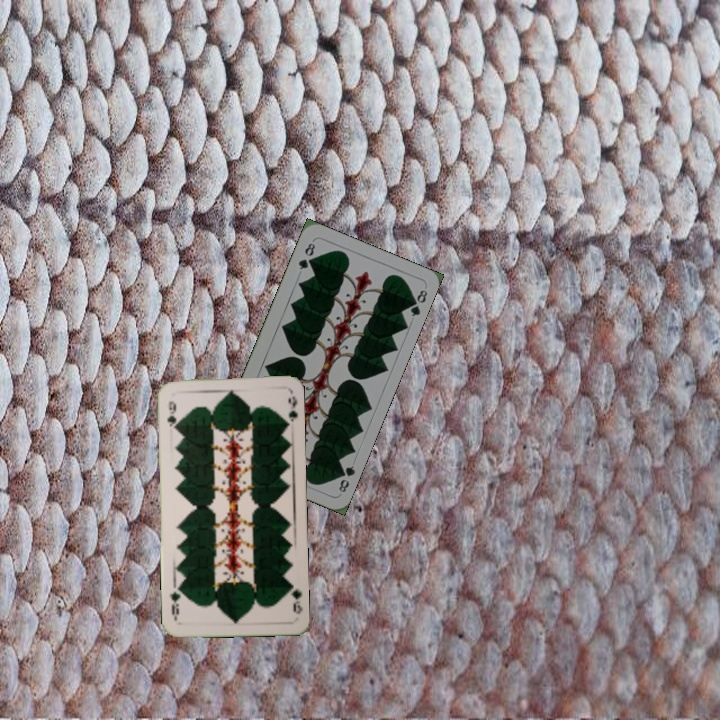G8: (294, 239, 318, 272), (334, 462, 358, 495)
G9: (284, 579, 305, 616), (163, 397, 180, 433)
